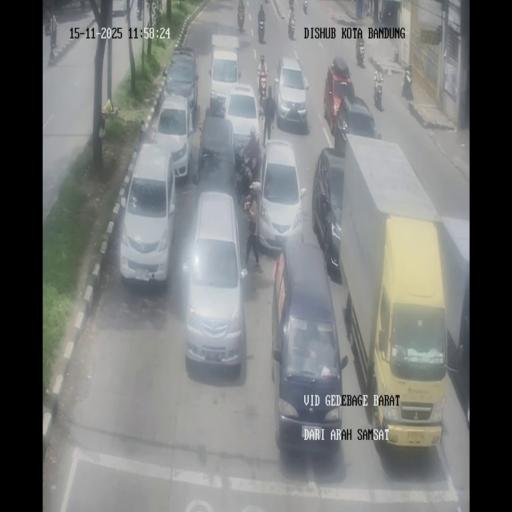car: (273, 242, 344, 452), (182, 192, 246, 370), (120, 141, 178, 283), (256, 136, 305, 255), (313, 147, 346, 277), (152, 94, 192, 180), (223, 82, 260, 161), (275, 52, 310, 130), (335, 92, 379, 148)
motorcycle: (234, 150, 258, 202), (401, 65, 413, 102), (258, 71, 268, 110), (241, 192, 254, 216), (356, 37, 366, 66), (374, 78, 383, 110), (288, 10, 296, 40), (258, 14, 266, 43), (237, 6, 245, 32), (44, 11, 52, 36), (362, 0, 370, 17), (146, 0, 153, 18), (136, 1, 142, 20), (289, 0, 295, 14), (156, 0, 162, 13), (79, 0, 85, 12), (378, 8, 383, 22), (303, 0, 308, 14)
truck: (337, 136, 463, 446), (382, 0, 402, 26)
